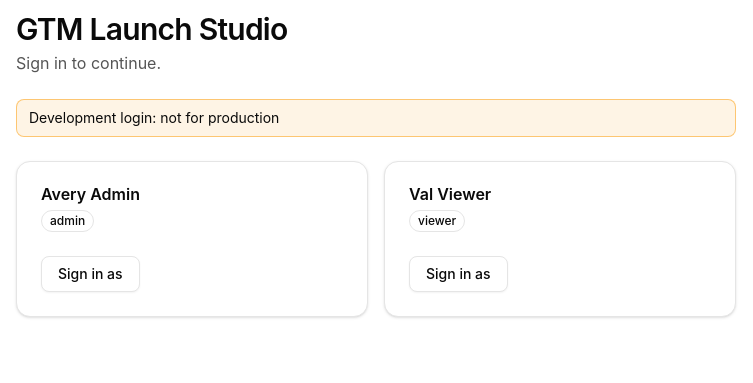
Scenario: LoginPage › says so when the server refuses the sign-in
Click the button with aria-label "Sign in as Avery Admin" at (90, 274), box [41,256,140,292]
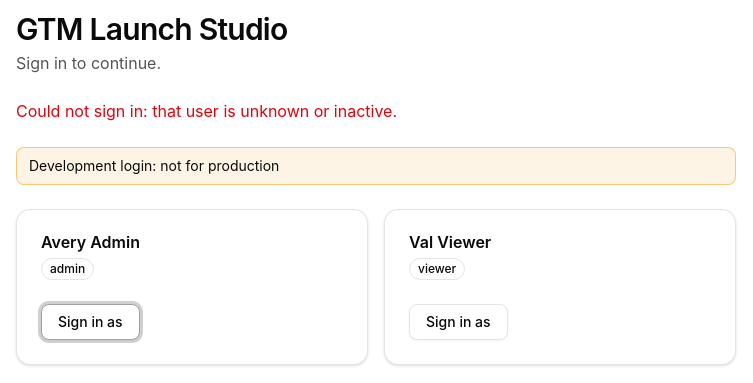
Result: the message shows "that user is unknown or inactive" at [143,101,397,121]
